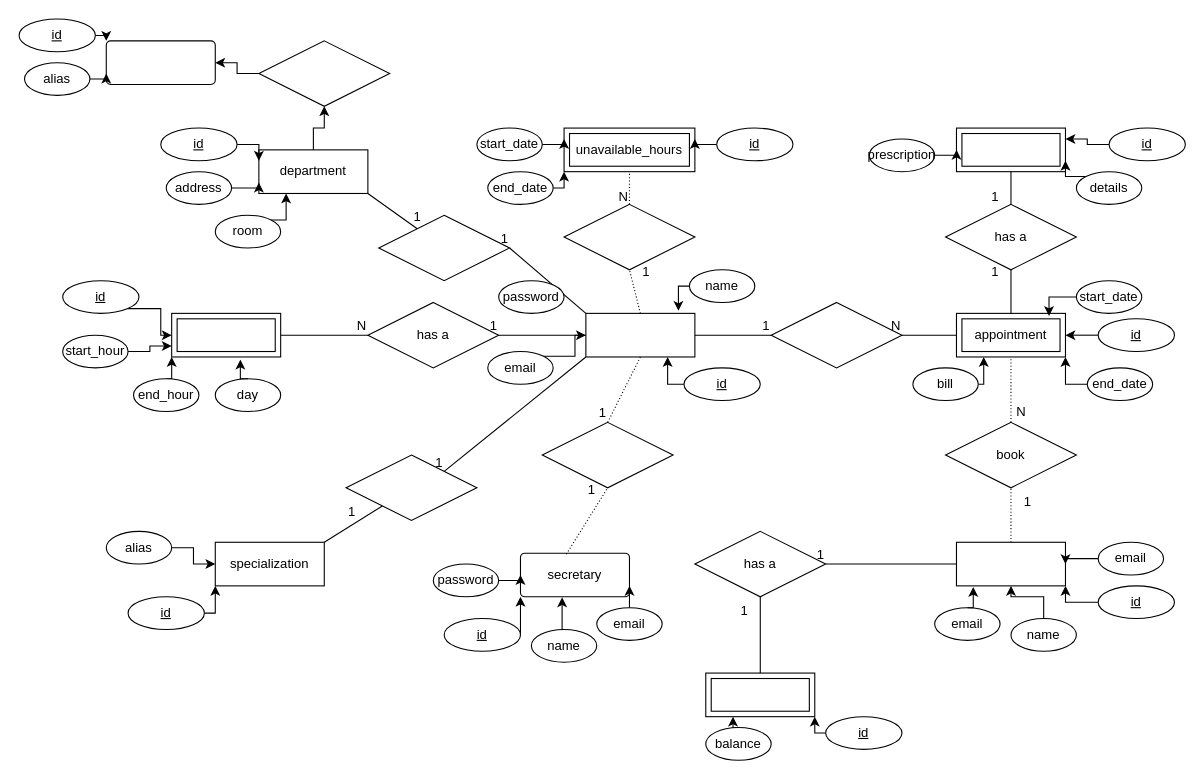
The diagram is 1204 pixels wide and 779 high, and some of its shapes have lost their labels. The centre of each missing label's shape, as x and y in pixels:
city: pixel 160 62
doctor: pixel 640 334
document: pixel 1010 149
IN: pixel 324 73
makes: pixel 629 236
patient: pixel 1010 563
payment: pixel 760 694
special in: pixel 411 487
supervise: pixel 836 334
week_schedule: pixel 226 334
work for: pixel 607 454
works in: pixel 444 247
